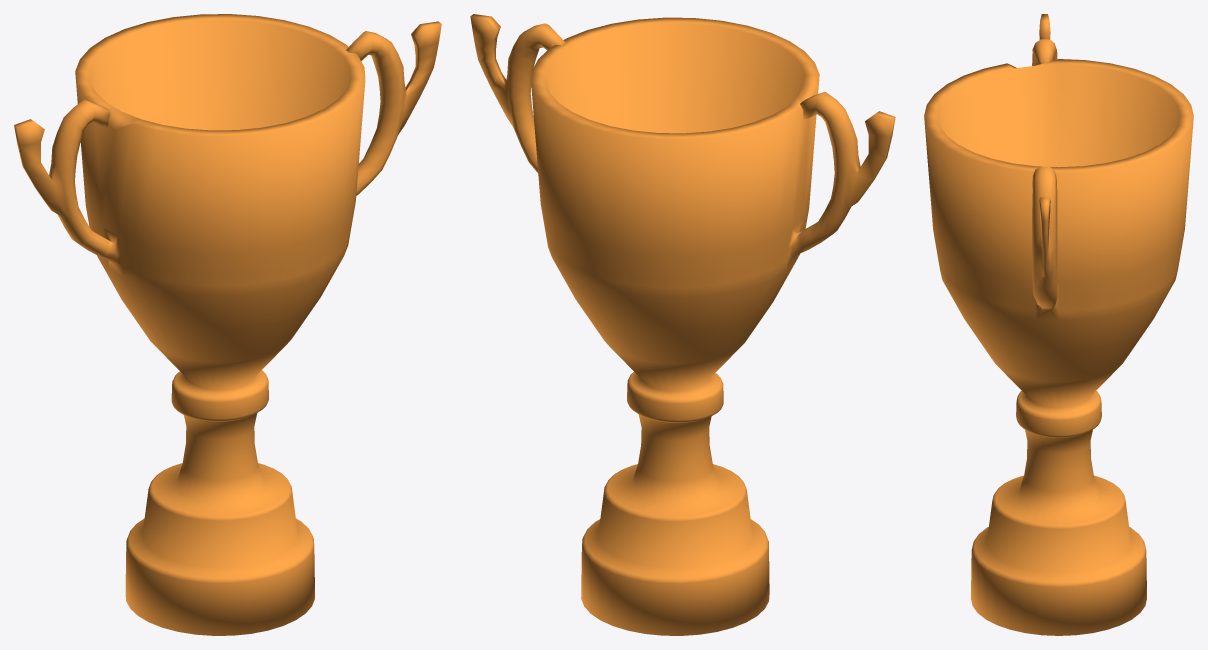
The model's file is trophy.fbx.
The picture shows the model from 3 angles, left to right: view 1: azimuth 30°, elevation 25°; view 2: azimuth 150°, elevation 25°; view 3: azimuth 270°, elevation 25°; orthographic projection. The views are drawn at different scales.
Parts seen in each view (by area): view 1: 柱体; view 2: 柱体; view 3: 柱体.
Part boxes in pixels (x1=…): 柱体: x1=14, y1=14, x2=441, y2=635; 柱体: x1=470, y1=14, x2=895, y2=635; 柱体: x1=924, y1=14, x2=1193, y2=635.
Bounding box in the file's own units: 225 × 271 × 134.
